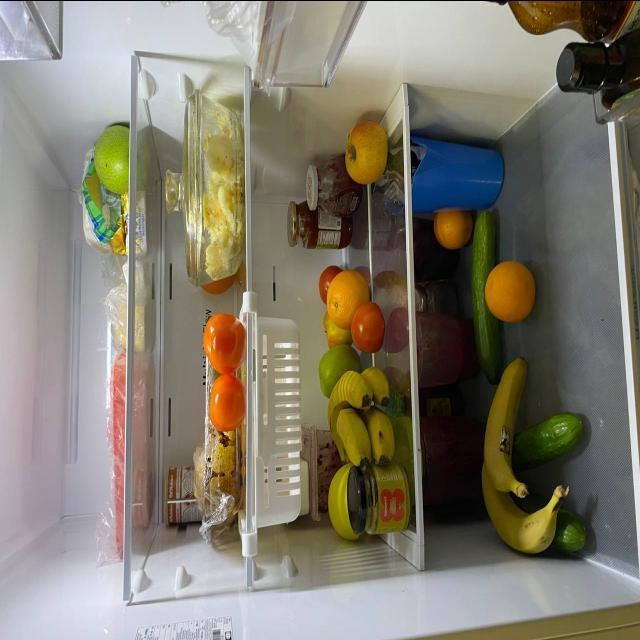Apple: (94, 120, 129, 192), (346, 119, 382, 182), (319, 342, 356, 396), (326, 314, 347, 348)
Banana: (484, 479, 570, 562), (482, 354, 528, 502), (327, 369, 394, 462)
Cucumber: (470, 202, 497, 380), (508, 409, 582, 472), (562, 506, 586, 554)
Orange: (486, 260, 537, 326), (329, 272, 366, 326), (437, 208, 472, 250), (202, 280, 234, 298)
Tomato: (209, 372, 243, 434), (205, 314, 241, 368), (353, 303, 381, 349), (319, 266, 335, 300)
